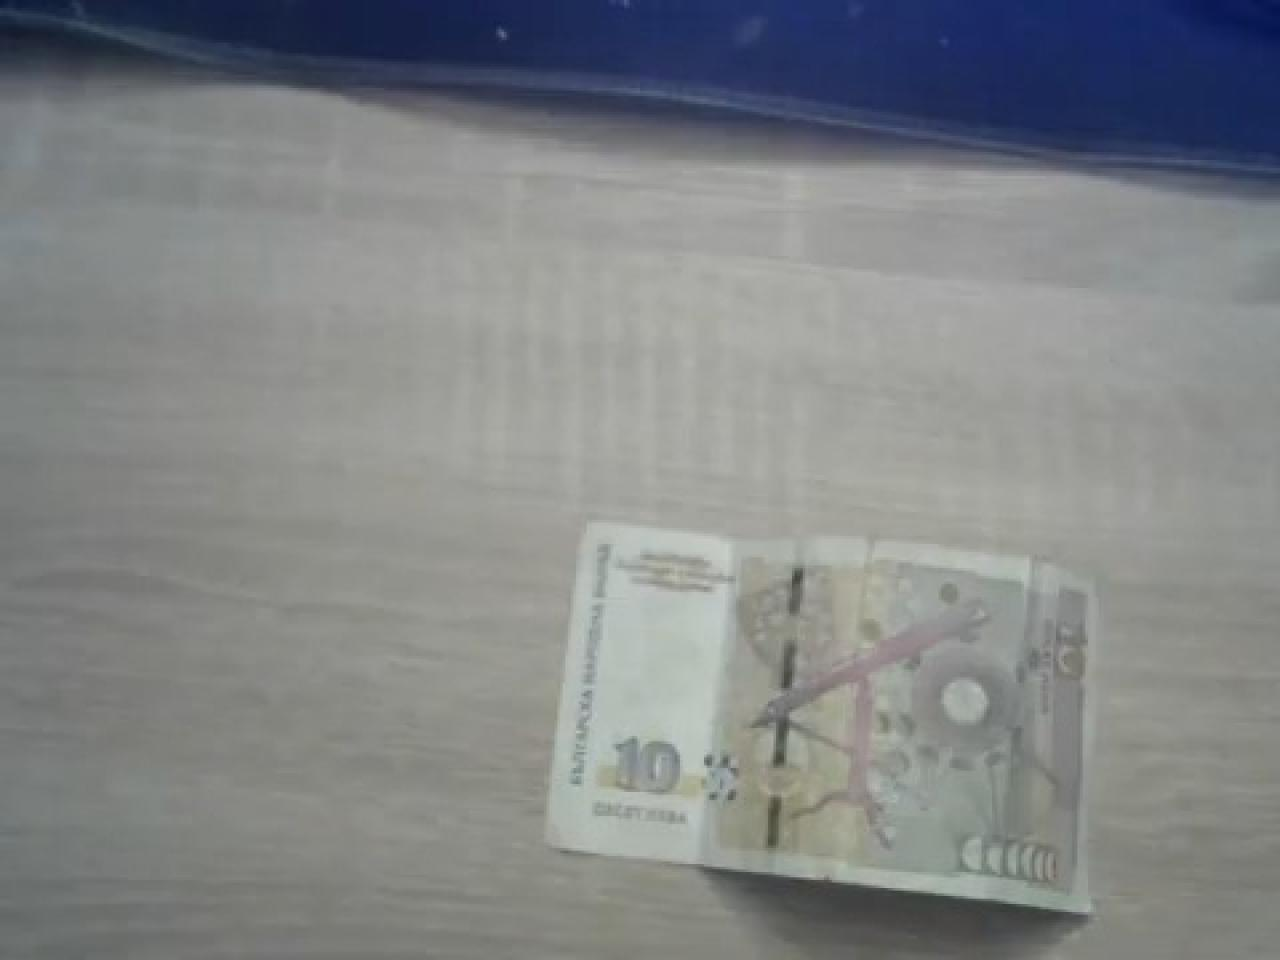10leva: (544, 522, 1102, 920)
